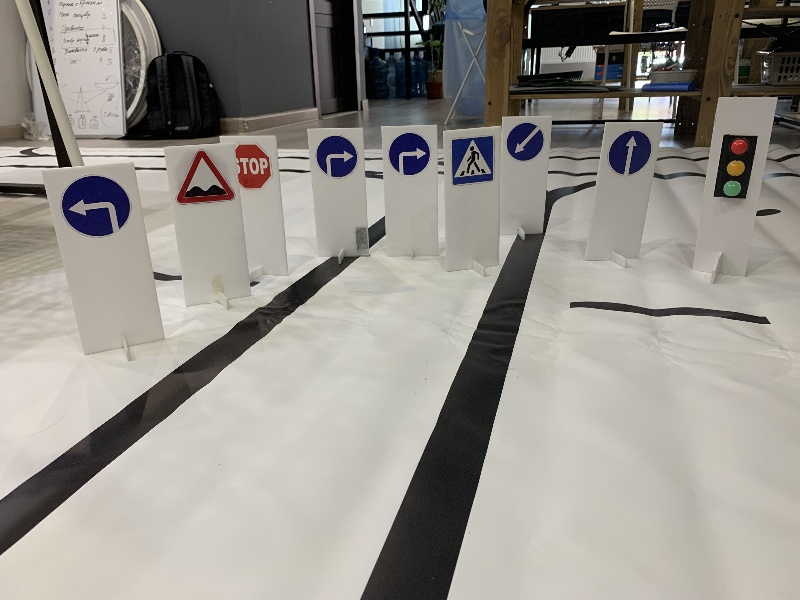Left: (58, 173, 131, 241)
Nerov: (173, 151, 232, 206)
Right: (386, 131, 431, 176), (315, 132, 356, 180)
Stop: (234, 141, 276, 187)
forw: (608, 130, 650, 177)
pesh: (447, 136, 495, 184)
prep: (507, 122, 545, 162)
